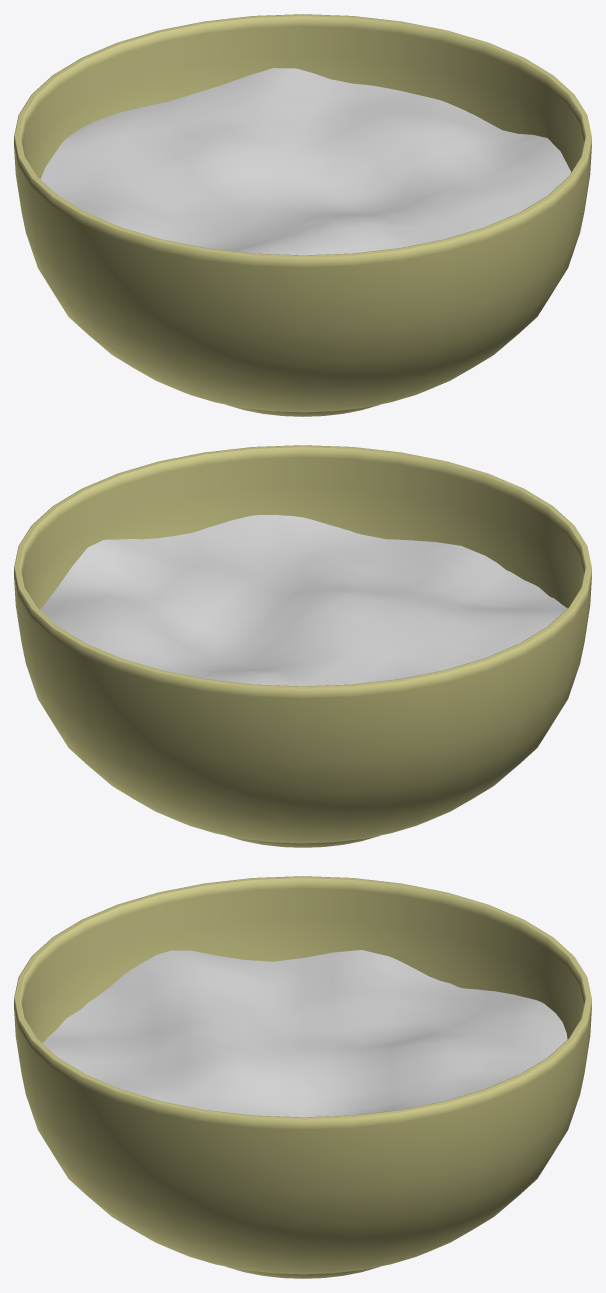
The model's file is bowl-with-food.fbx.
3 renders of one model, top to bottom at view 1: azimuth 30°, elevation 25°; view 2: azimuth 150°, elevation 25°; view 3: azimuth 270°, elevation 25°, orthographic.
Visible parts, largest first — view 1: Bowl, Contents; view 2: Bowl, Contents; view 3: Bowl, Contents.
Boxes of the visible parts, x1,y1,x2,y2 form: Bowl: (14,14,591,416); Contents: (40,68,571,255); Bowl: (14,445,591,847); Contents: (40,514,567,686); Bowl: (14,876,591,1278); Contents: (42,950,567,1117).
Size of the model in its own units: 0.1847 by 0.0826 by 0.1847.
